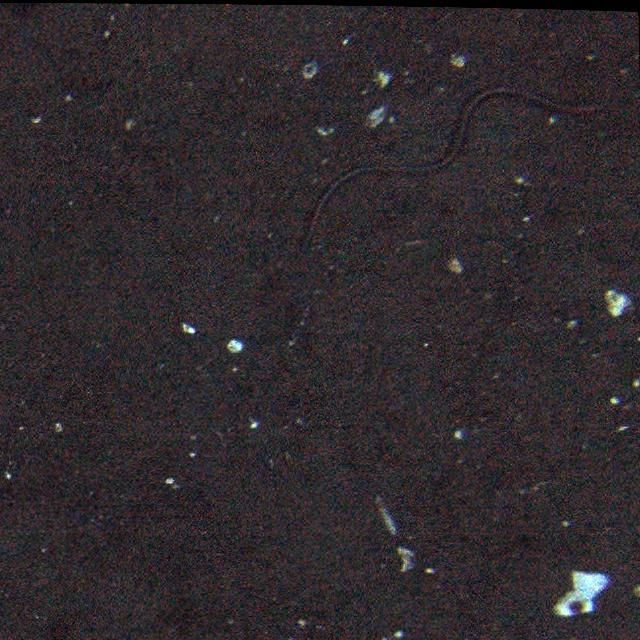eel: (295, 89, 597, 259)
